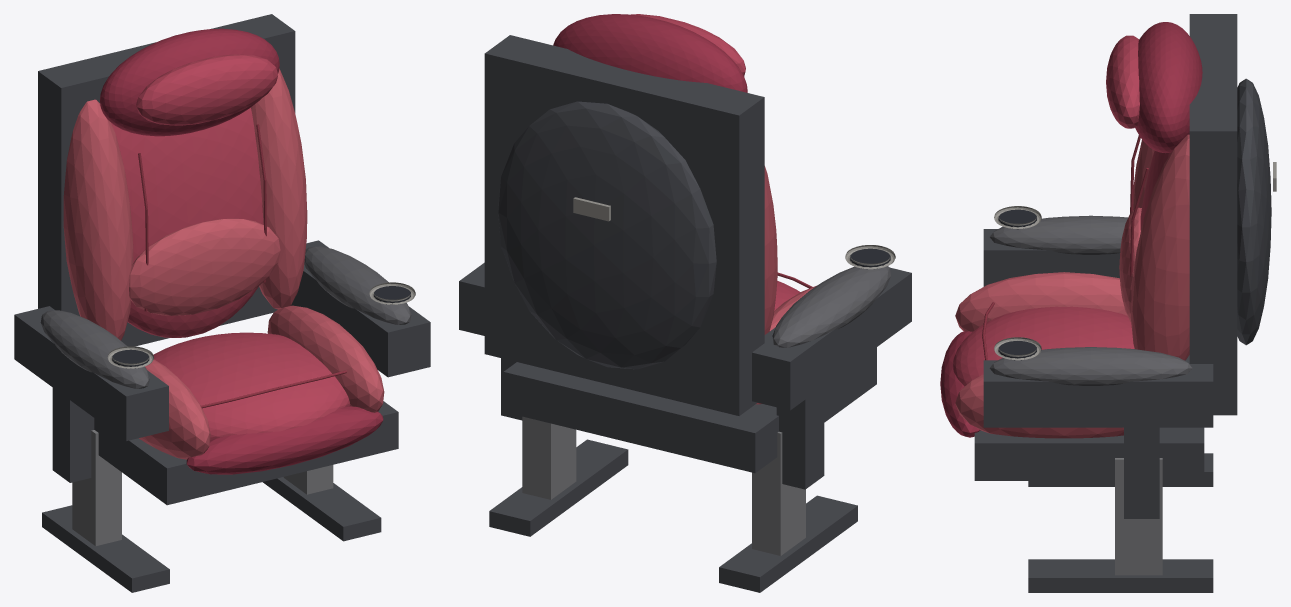
The model's file is cineverse_classic_red_cinema_chair.glb.
The picture shows the model from 3 angles, left to right: view 1: azimuth 30°, elevation 25°; view 2: azimuth 150°, elevation 25°; view 3: azimuth 270°, elevation 25°; orthographic projection. The views are drawn at different scales.
Parts seen in each view (by area): view 1: back_main, seat_center, back_frame, back_left_bolster, lumbar_cushion, back_right_bolster, arm_frame_left, seat_chassis, headrest, headrest_center, seat_front_roll, arm_frame_right (+9 smaller); view 2: back_frame, rear_shell, seat_chassis, arm_frame_left, headrest, arm_pad_left, foot_R, foot_L, pedestal_L, pedestal_R, arm_support_L, back_left_bolster (+4 smaller); view 3: back_frame, arm_frame_right, back_right_bolster, seat_chassis, rear_shell, headrest, seat_center, arm_pad_right, seat_bolster_left, foot_R, arm_pad_left, arm_frame_left (+13 smaller).
Part boxes in pixels (box(x1,y1,x2,y2)): back_main: box(111, 107, 263, 337); seat_center: box(153, 332, 350, 440); back_frame: box(38, 14, 295, 346); back_left_bolster: box(63, 99, 133, 340); lumbar_cushion: box(129, 218, 280, 315); back_right_bolster: box(251, 68, 307, 309); arm_frame_left: box(14, 306, 168, 441); seat_chassis: box(94, 401, 398, 505); headrest: box(100, 28, 279, 136); headrest_center: box(136, 54, 277, 125); seat_front_roll: box(186, 406, 383, 474); arm_frame_right: box(291, 240, 430, 377); back_frame: box(484, 35, 764, 415); rear_shell: box(498, 101, 716, 369); seat_chassis: box(503, 347, 876, 473); arm_frame_left: box(752, 267, 911, 410); headrest: box(553, 14, 747, 92); arm_pad_left: box(772, 266, 890, 347); foot_R: box(489, 439, 628, 536); foot_L: box(719, 495, 857, 592); pedestal_L: box(752, 431, 805, 555); pedestal_R: box(522, 416, 576, 499); arm_support_L: box(776, 386, 824, 489); back_left_bolster: box(764, 166, 777, 334); back_frame: box(1189, 14, 1237, 415); arm_frame_right: box(983, 360, 1213, 427); back_right_bolster: box(1131, 134, 1189, 360); seat_chassis: box(974, 355, 1204, 480); rear_shell: box(1237, 78, 1271, 345); headrest: box(1135, 22, 1202, 153); seat_center: box(953, 306, 1134, 386); arm_pad_right: box(989, 347, 1192, 385); seat_bolster_left: box(955, 272, 1127, 331); foot_R: box(1028, 559, 1213, 592); arm_pad_left: box(990, 215, 1128, 254); arm_frame_left: box(983, 229, 1119, 286).
Bounding box in the file's own units: 1.23 × 1.82 × 1.13.
